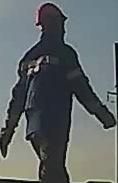gloves: (91, 105, 117, 130), (0, 119, 16, 159)
helmet: (35, 2, 69, 28)
vest: (21, 43, 81, 135)
